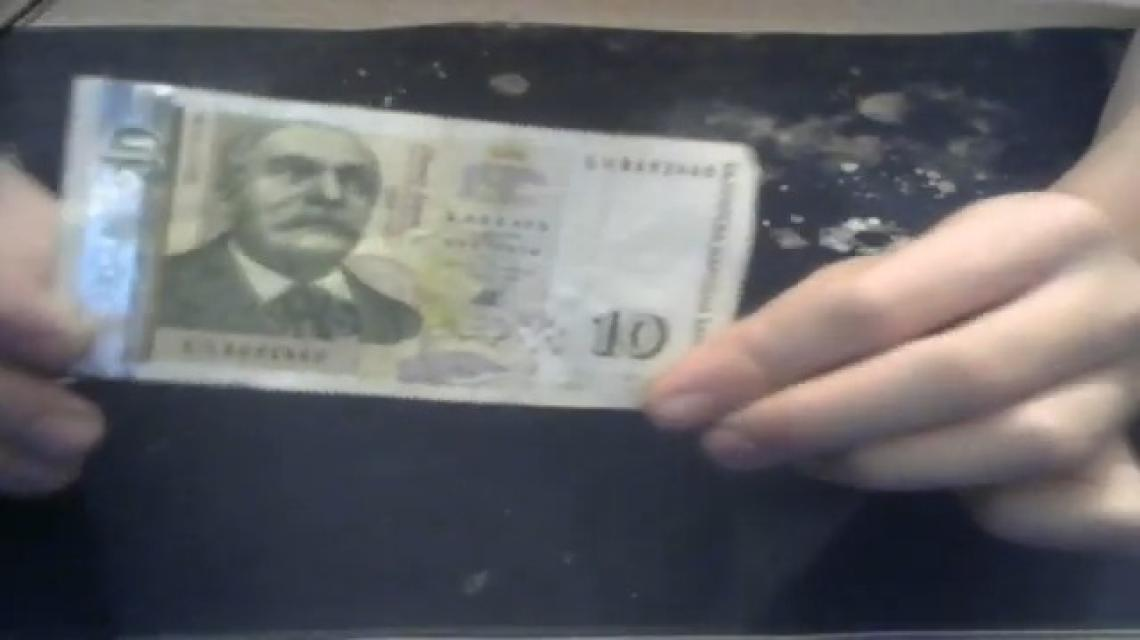10leva: (55, 78, 762, 412), (169, 117, 420, 343)
